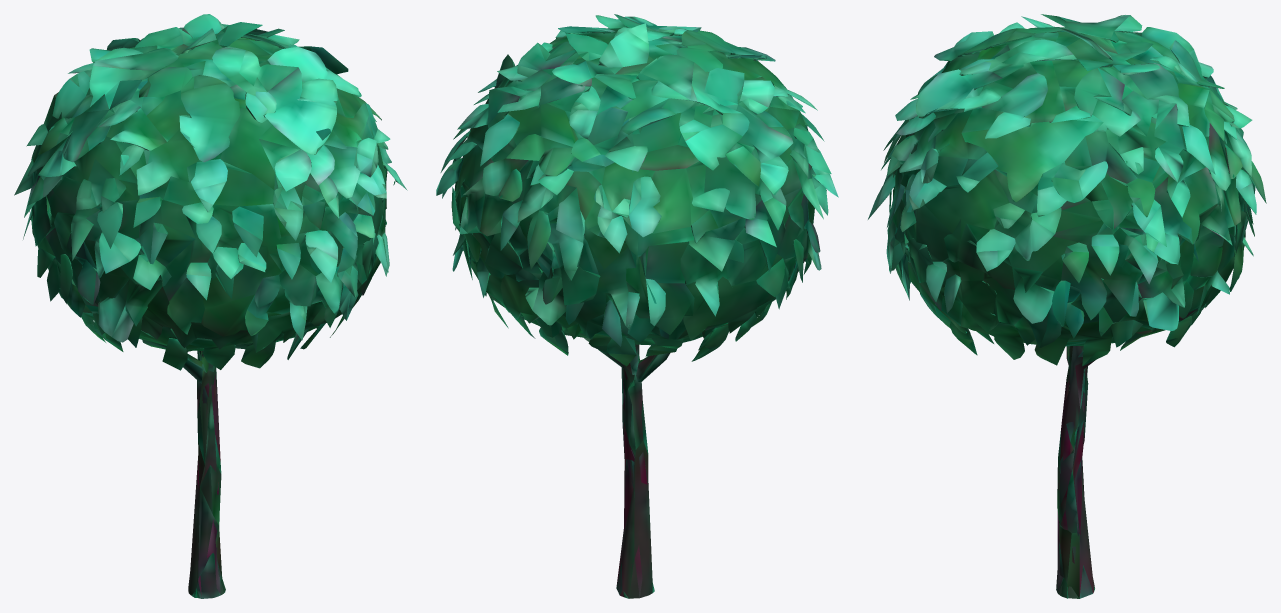
Rendered from arbre.glb.
3 renders of one model, left to right at view 1: azimuth 30°, elevation 25°; view 2: azimuth 150°, elevation 25°; view 3: azimuth 270°, elevation 25°, orthographic.
Size of the model in its own units: 1.16 by 1.9 by 1.22.
Materials: 1 (1 with a texture image).
